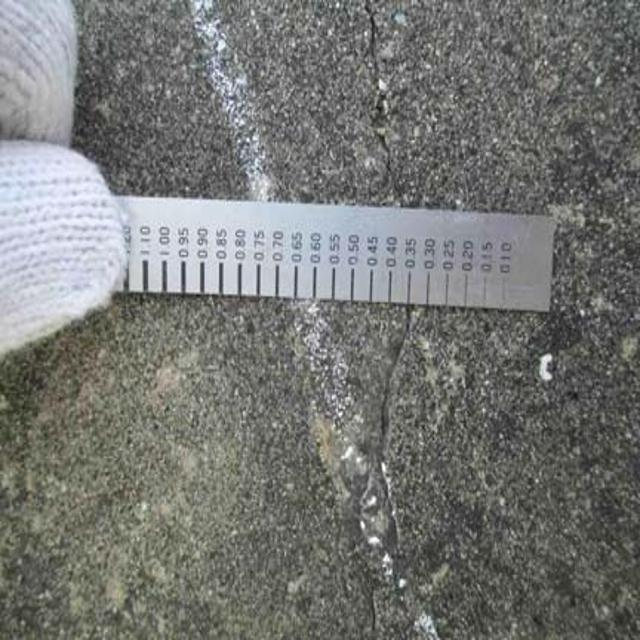crack: (361, 309, 420, 637), (357, 10, 417, 199)
